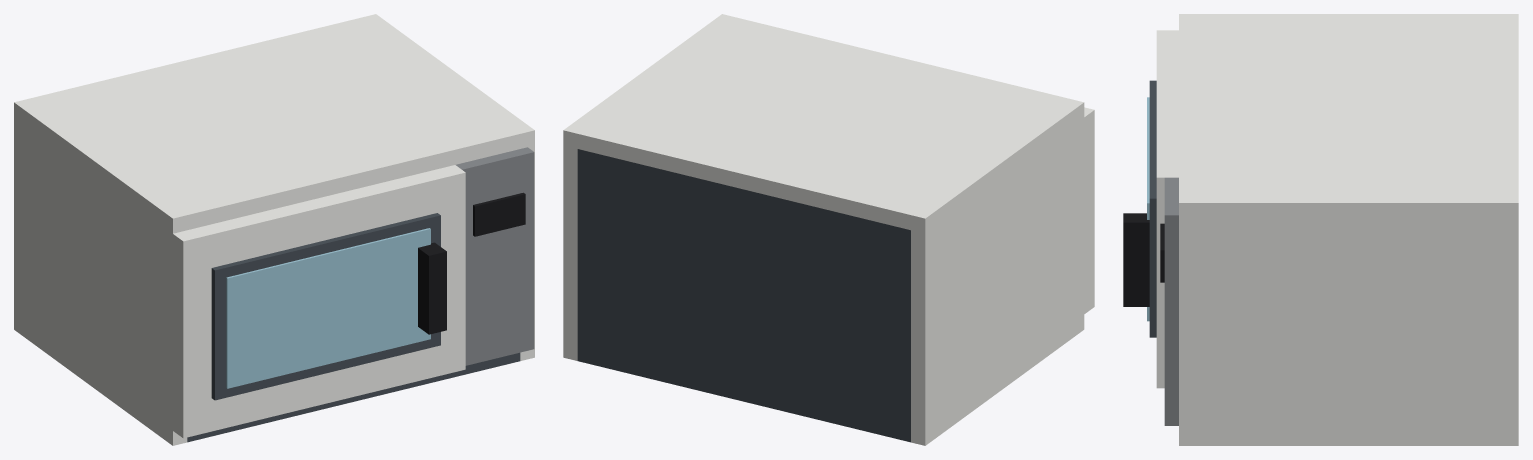
File: GI_Microwave_01.glb
The picture shows the model from 3 angles, left to right: view 1: azimuth 30°, elevation 25°; view 2: azimuth 150°, elevation 25°; view 3: azimuth 270°, elevation 25°; orthographic projection. The views are drawn at different scales.
Parts seen in each view (by area): view 1: GI_Microwave_01, Door; view 2: GI_Microwave_01, Door; view 3: GI_Microwave_01, Door.
Part boxes in pixels (x1,y1,x2,y2): GI_Microwave_01: (14,14,534,445); Door: (173,165,465,438); GI_Microwave_01: (563,14,1084,445); Door: (1084,107,1094,313); GI_Microwave_01: (1160,14,1518,445); Door: (1123,30,1178,388).
Bounding box in the file's own units: 0.5 × 0.3 × 0.4425.
1 material, 1 textured.
